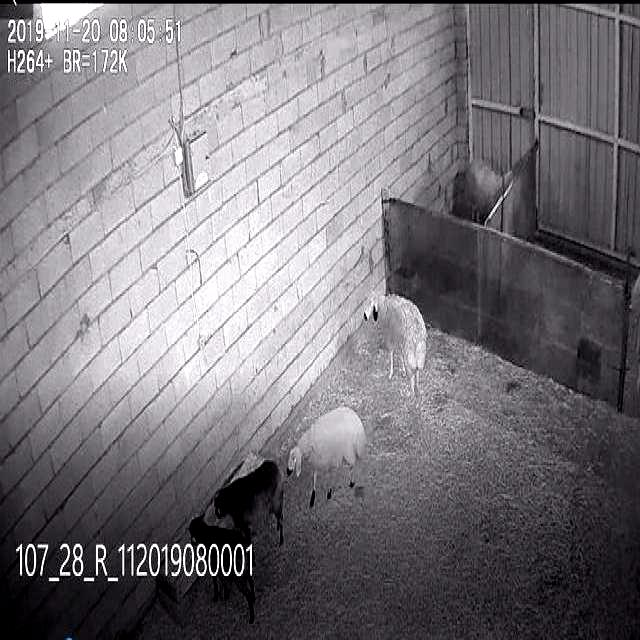sheep: (285, 403, 365, 514), (363, 291, 427, 403), (214, 464, 284, 548)
